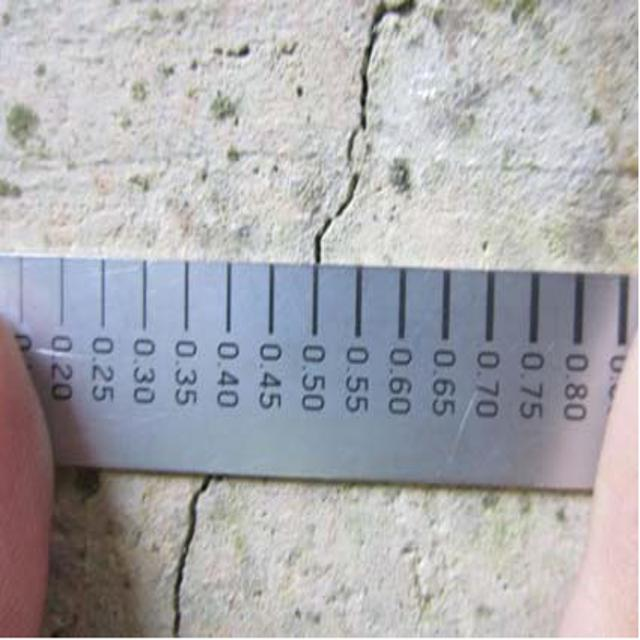crack: (298, 0, 422, 267), (123, 463, 238, 640)
